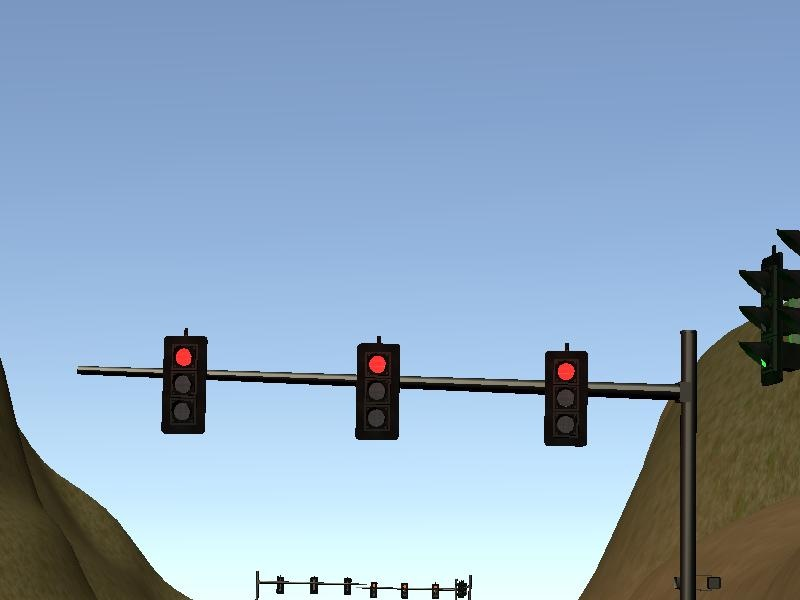RED: (160, 335, 206, 434), (354, 343, 400, 442), (541, 348, 587, 447)
